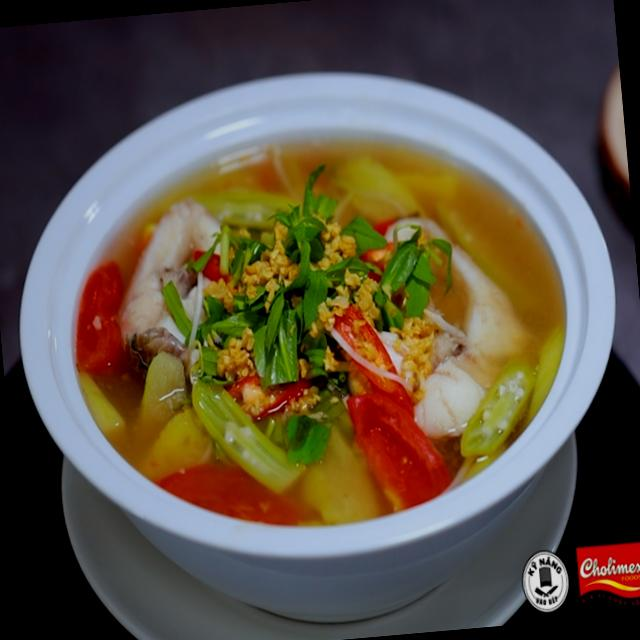canh chua: (74, 143, 564, 525)
